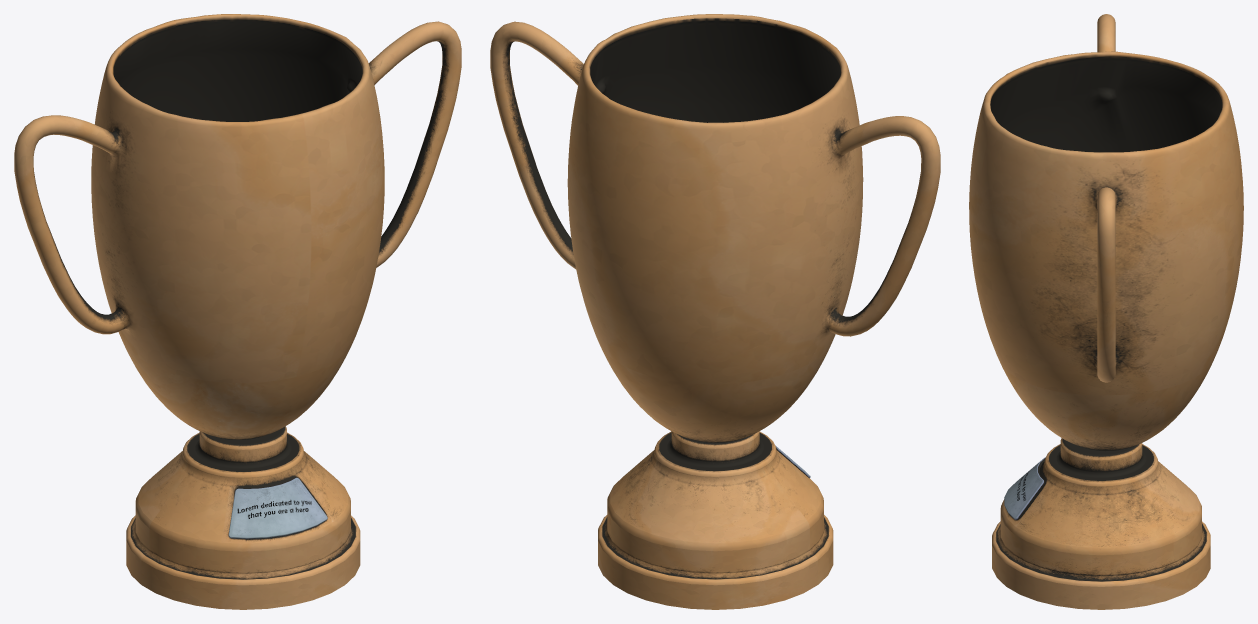
The model's file is oro.glb.
3 renders of one model, left to right at view 1: azimuth 30°, elevation 25°; view 2: azimuth 150°, elevation 25°; view 3: azimuth 270°, elevation 25°, orthographic. The views are drawn at different scales.
Visible parts, largest first — view 1: Copa, Base, Placa; view 2: Copa, Base; view 3: Copa, Base, Placa.
Boxes of the visible parts, box(x1,y1,x2,y2) form: Copa: box(14, 14, 461, 439); Base: box(126, 426, 360, 609); Placa: box(228, 477, 327, 539); Copa: box(490, 14, 940, 442); Base: box(598, 431, 833, 609); Copa: box(969, 14, 1243, 451); Base: box(992, 438, 1210, 609); Placa: box(1004, 457, 1045, 519).
Size of the model in its own units: 1.07 by 1.13 by 0.61.
Materials: 1 (1 with a texture image).
